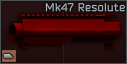Mk47 Resolute 7.62x39 upper receiver: (0, 0, 127, 64)
